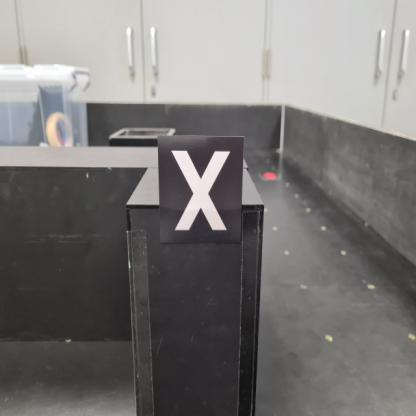x: (157, 136, 244, 245)
